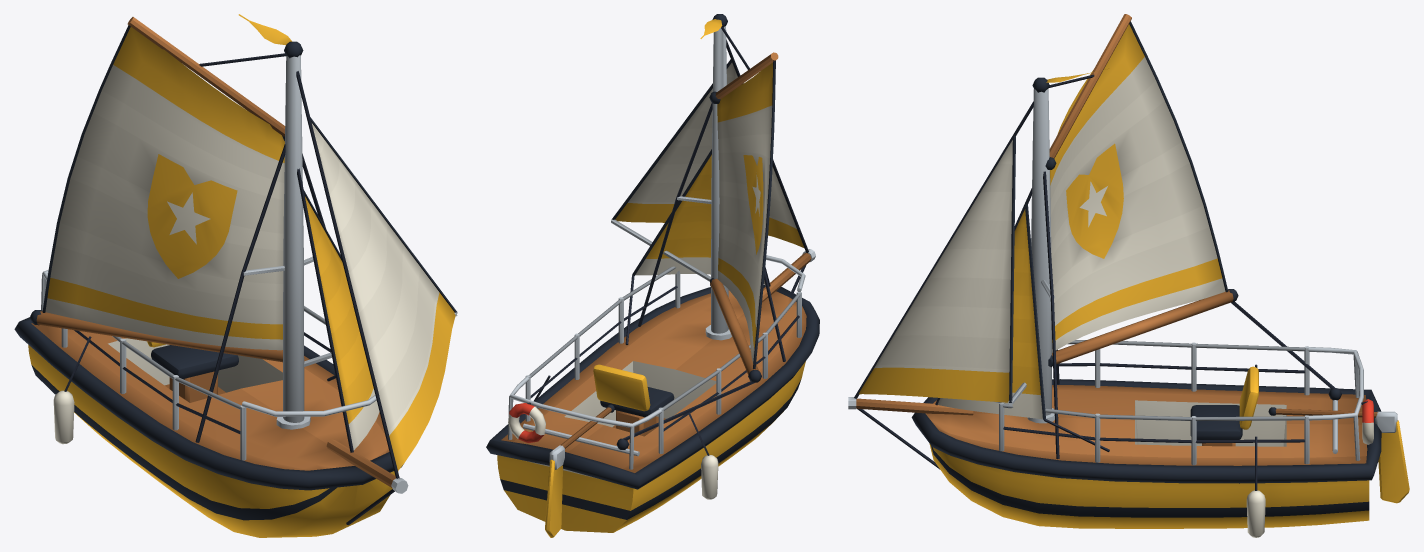
Rendered from sail-cutter.glb.
The picture shows the model from 3 angles, left to right: view 1: azimuth 30°, elevation 25°; view 2: azimuth 150°, elevation 25°; view 3: azimuth 270°, elevation 25°; orthographic projection. The views are drawn at different scales.
Parts seen in each view (by area): view 1: Reef cutter Sail ivory, Reef cutter Reef gold, Reef cutter Deck teak, Reef cutter Deck charcoal, Reef cutter Mast alloy, Reef cutter Rigging line; view 2: Reef cutter Sail ivory, Reef cutter Deck teak, Reef cutter Reef gold, Reef cutter Deck charcoal, Reef cutter Mast alloy, Reef cutter Rigging line, Reef cutter Buoy red; view 3: Reef cutter Sail ivory, Reef cutter Reef gold, Reef cutter Deck teak, Reef cutter Deck charcoal, Reef cutter Mast alloy, Reef cutter Rigging line.
Part boxes in pixels (x1,y1,x2,y2): Reef cutter Sail ivory: (45, 27, 455, 470); Reef cutter Reef gold: (28, 14, 395, 537); Reef cutter Deck teak: (31, 17, 395, 487); Reef cutter Deck charcoal: (14, 25, 457, 490); Reef cutter Mast alloy: (41, 55, 457, 493); Reef cutter Rigging line: (38, 53, 399, 525); Reef cutter Sail ivory: (508, 62, 804, 499); Reef cutter Deck teak: (501, 52, 811, 472); Reef cutter Reef gold: (497, 19, 805, 537); Reef cutter Deck charcoal: (486, 14, 819, 489); Reef cutter Mast alloy: (508, 26, 815, 469); Reef cutter Rigging line: (527, 27, 808, 455); Reef cutter Buoy red: (509, 403, 543, 442); Reef cutter Sail ivory: (858, 24, 1373, 537); Reef cutter Reef gold: (929, 68, 1409, 528); Reef cutter Deck teak: (856, 14, 1378, 465); Reef cutter Deck charcoal: (911, 21, 1381, 483); Reef cutter Mast alloy: (848, 89, 1397, 465); Reef cutter Rigging line: (854, 74, 1367, 490).
Bounding box in the file's own units: 2.74 × 4.38 × 4.96.
